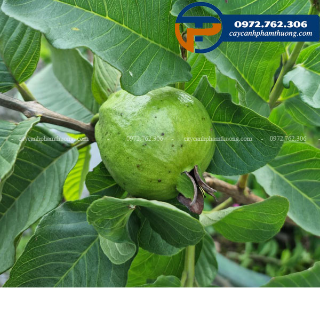oi: (88, 79, 216, 205)
